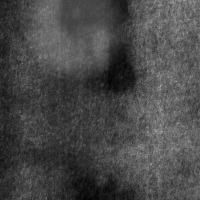patches: (23, 0, 125, 80), (58, 1, 130, 38), (103, 35, 136, 94), (64, 172, 131, 199)
